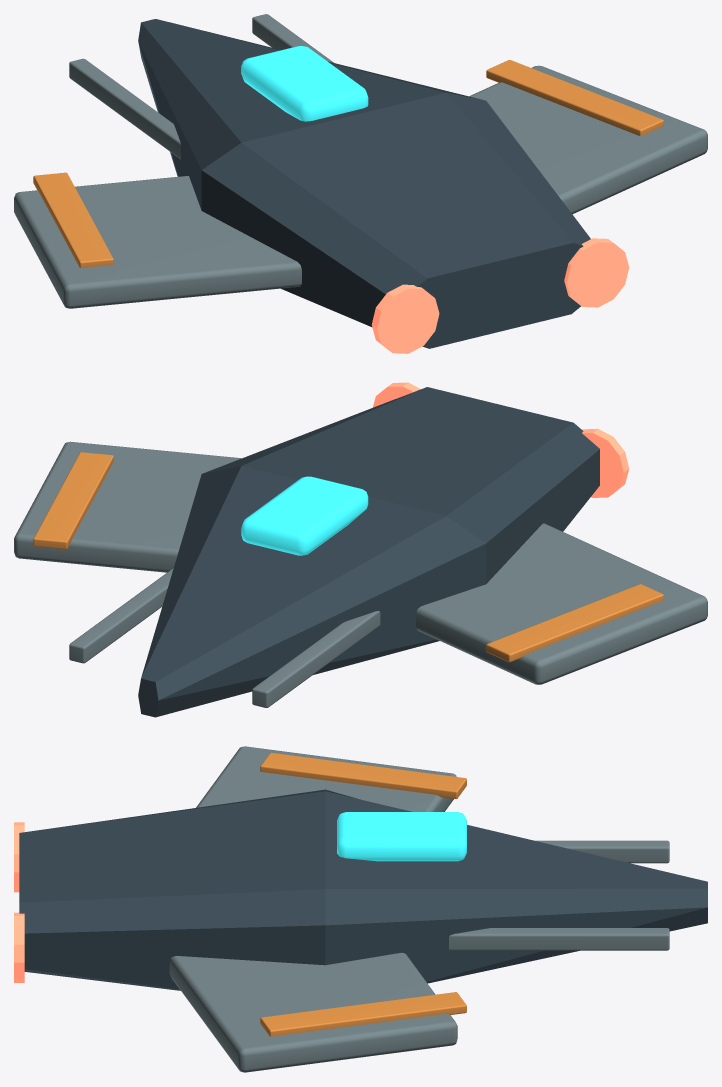
Rendered from sentinel.glb.
The picture shows the model from 3 angles, top to bottom: view 1: azimuth 30°, elevation 25°; view 2: azimuth 150°, elevation 25°; view 3: azimuth 270°, elevation 25°; orthographic projection. The views are drawn at different scales.
Visible parts, largest first — view 1: sentinel; view 2: sentinel; view 3: sentinel.
Part boxes in pixels (bbox=[...]): sentinel: bbox=[14, 14, 707, 353]; sentinel: bbox=[14, 382, 707, 717]; sentinel: bbox=[14, 746, 707, 1072].
Size of the model in its own units: 9.48 by 1.92 by 9.07.
